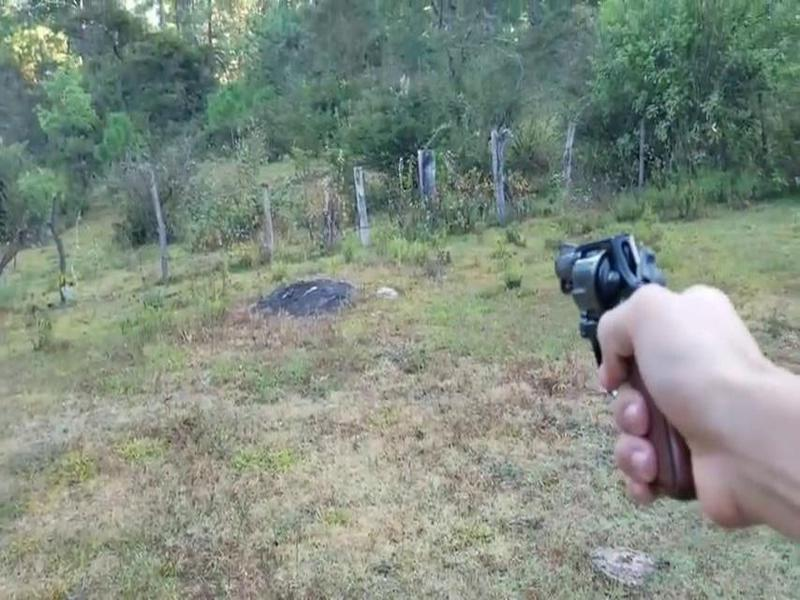Revolver: (540, 228, 701, 500)
